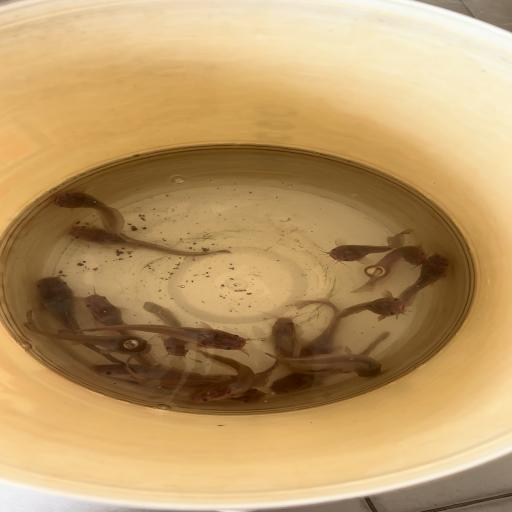lele: (34, 276, 124, 364), (274, 330, 390, 395), (122, 354, 266, 405), (56, 323, 250, 358), (22, 310, 152, 356), (68, 223, 234, 258), (80, 294, 157, 362), (268, 314, 350, 374), (350, 246, 428, 296), (190, 348, 256, 406), (325, 228, 416, 267), (52, 192, 128, 236), (394, 254, 452, 310), (263, 352, 384, 378), (89, 363, 215, 387), (140, 301, 192, 357), (295, 298, 345, 356), (328, 290, 408, 322), (207, 351, 280, 385)
